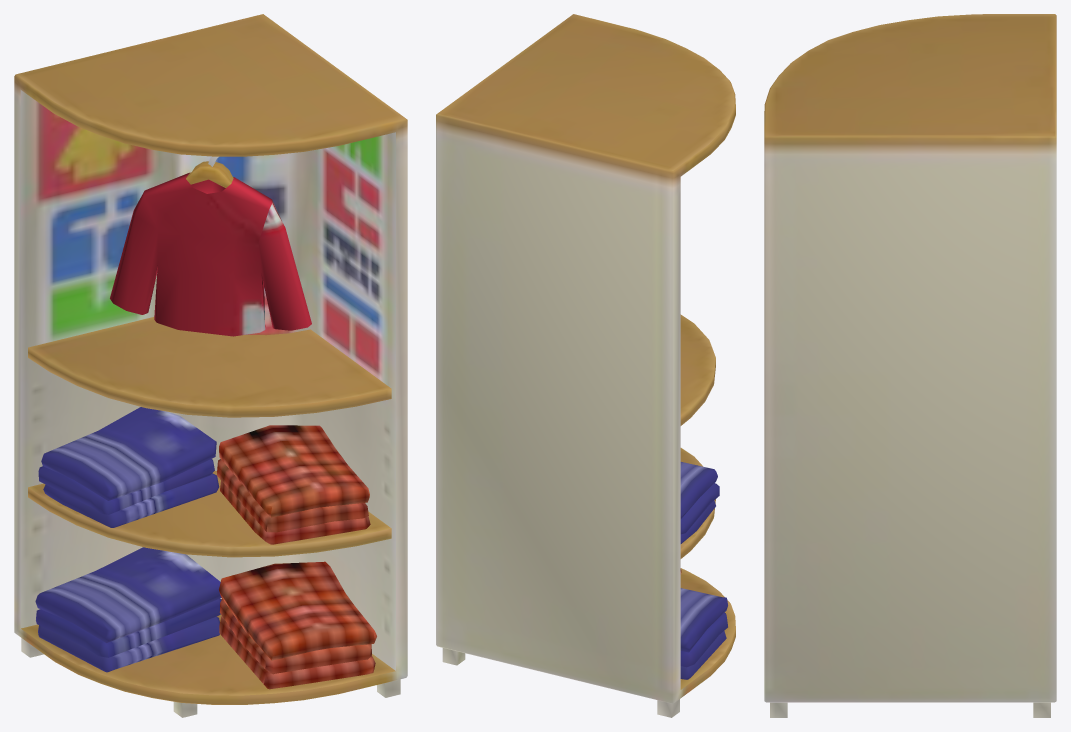
3 views of the same model, side by side, from view 1: azimuth 30°, elevation 25°; view 2: azimuth 150°, elevation 25°; view 3: azimuth 270°, elevation 25° (orthographic). The views are drawn at different scales.
Size of the model in its own units: 10 by 22 by 10.
Materials: 2 (2 with a texture image).
